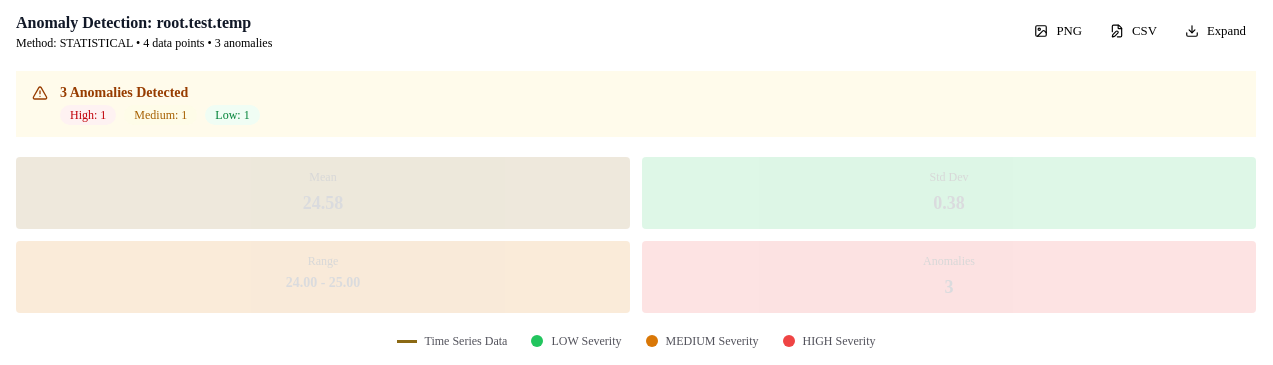
Test case: AnomalyChart › should toggle expand/collapse
Click the button with aria-label "Expand anomaly chart to full size" at {"x": 1215, "y": 31}, box [1175,17,1256,45]
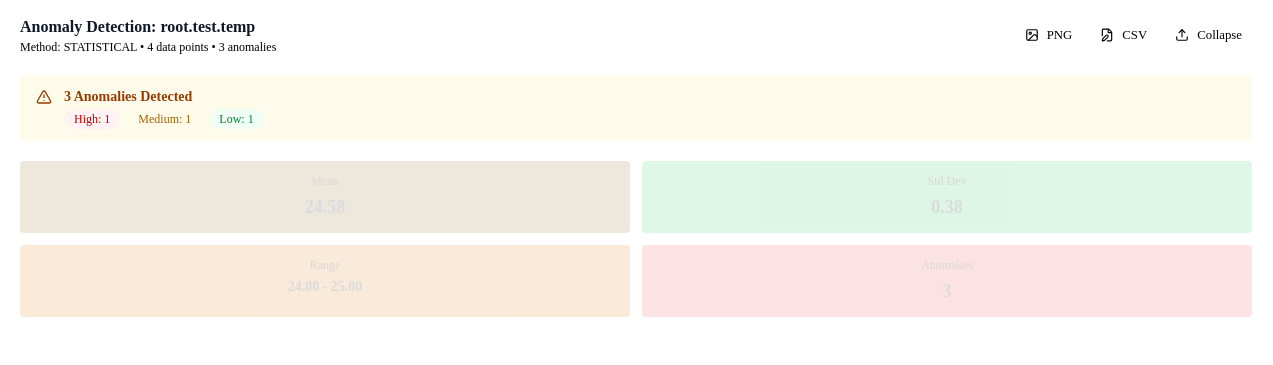
Check: the button with aria-label "Collapse anomaly chart to normal size" is shown, box [1165,21,1252,49]
